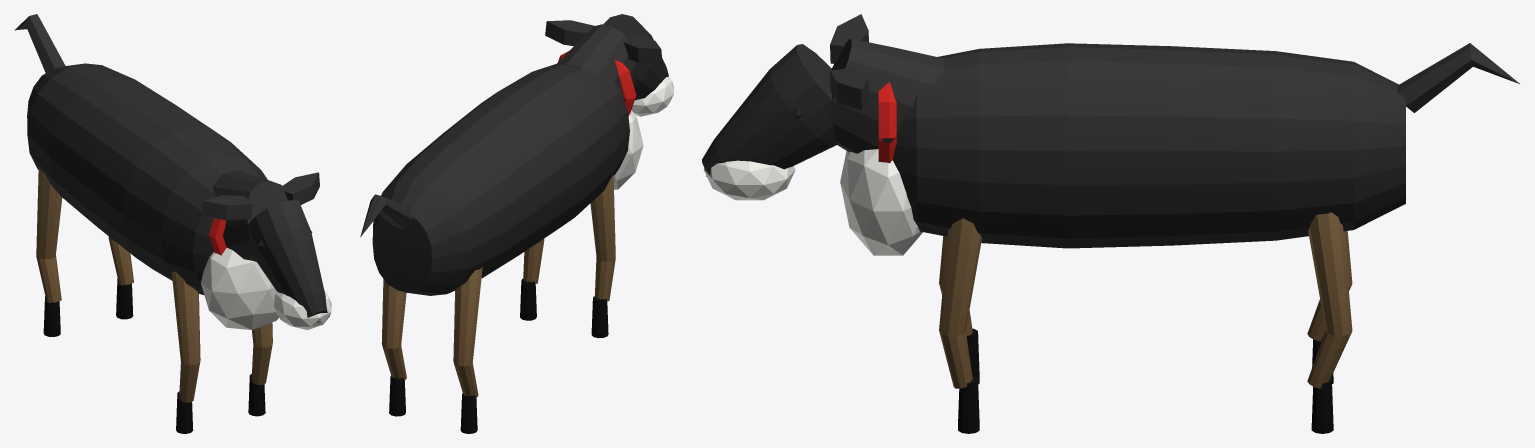
File: Dog.fbx
3 views of the same model, side by side, from view 1: azimuth 30°, elevation 25°; view 2: azimuth 150°, elevation 25°; view 3: azimuth 270°, elevation 25° (orthographic). The views are drawn at different scales.
Visible parts, largest first — view 1: Dog_LOD0; view 2: Dog_LOD0; view 3: Dog_LOD0.
Boxes of the visible parts, <box> form: Dog_LOD0: <box>14,14,331,433</box>; Dog_LOD0: <box>360,14,673,433</box>; Dog_LOD0: <box>702,14,1519,433</box>.
Size of what is drawn, in the model's own units: 0.34 by 0.7315 by 1.5.
1 material, 1 textured.
